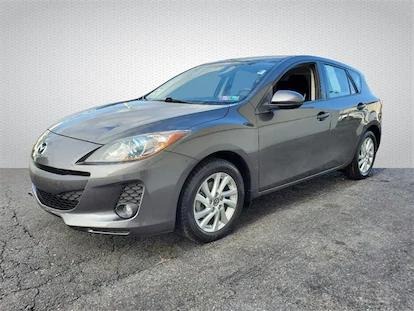Mazda3 Hatchback: (26, 50, 386, 245)
